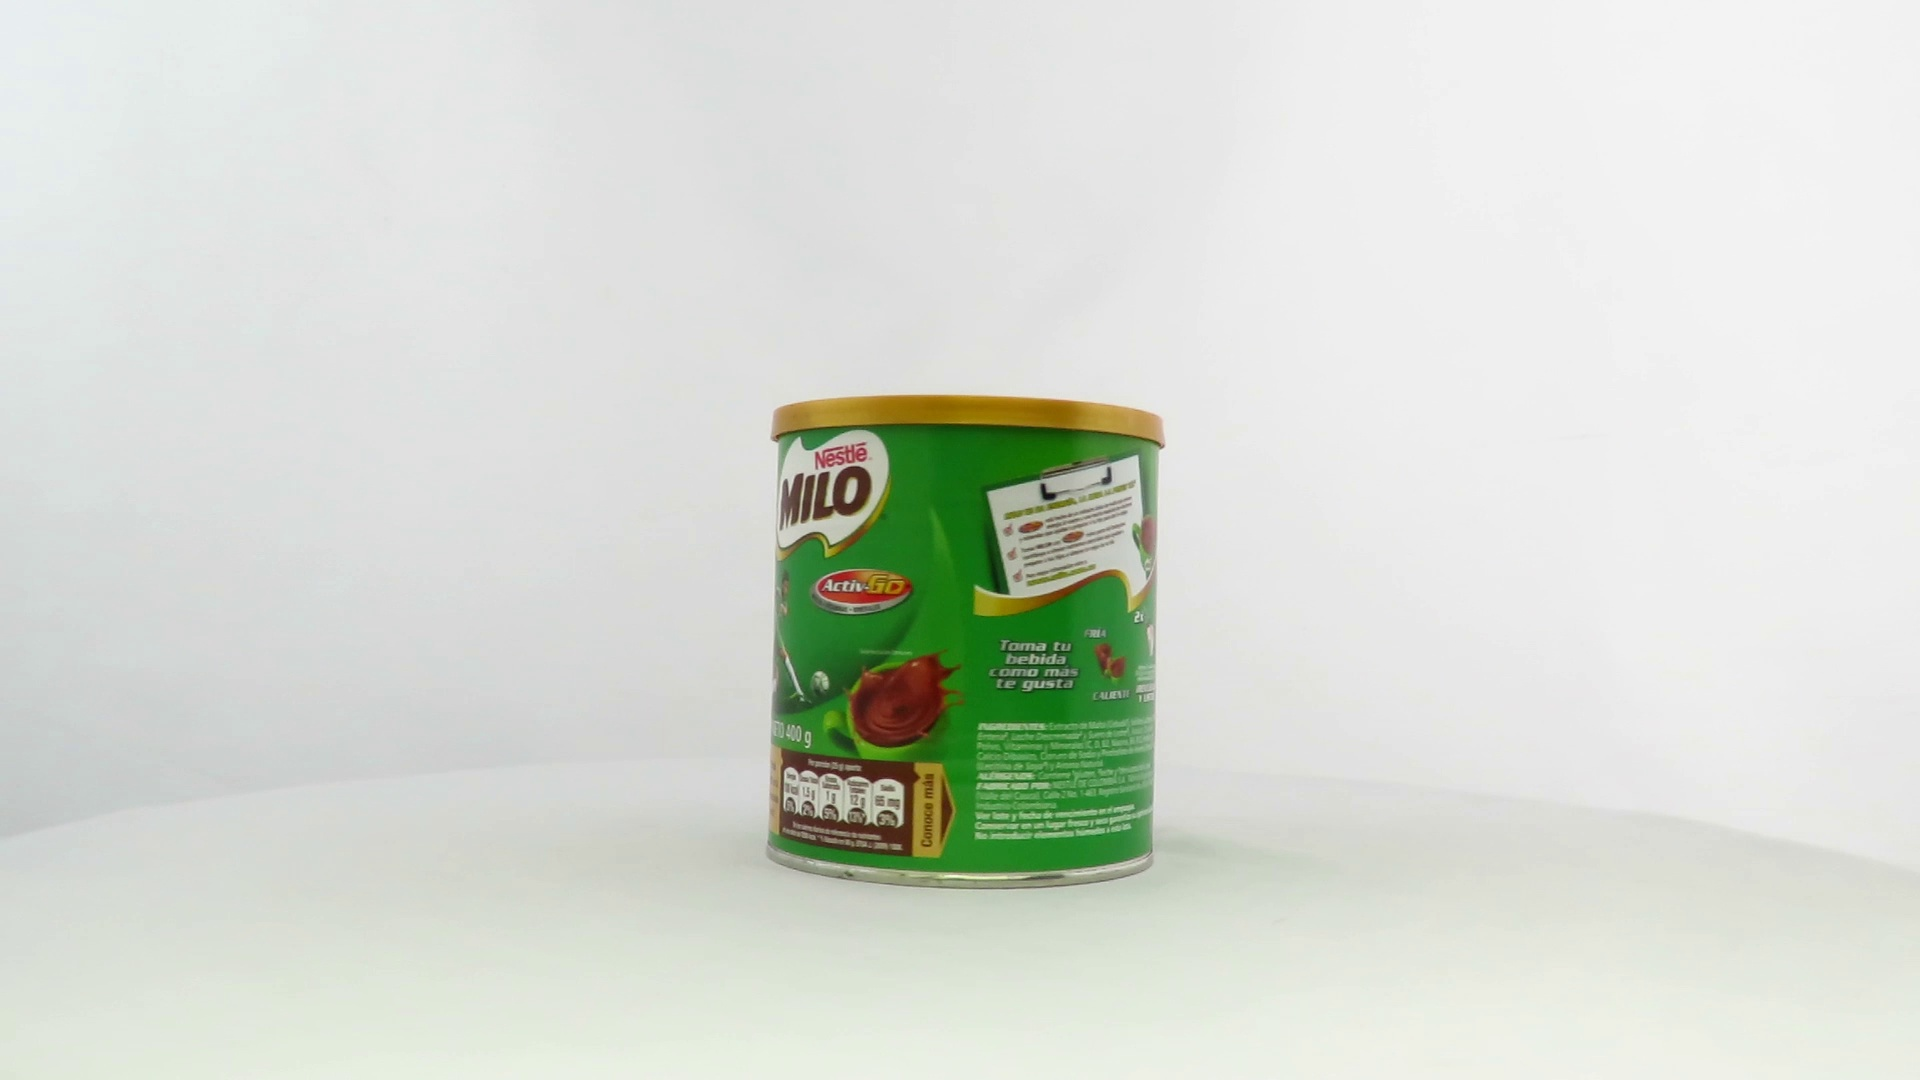COL0170203LAT40000: (760, 389, 1172, 899)
